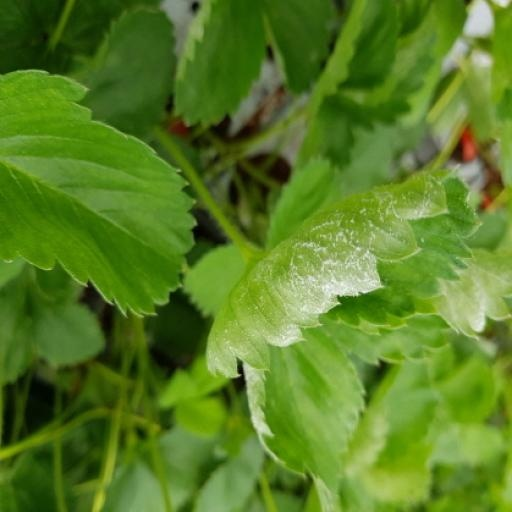Powdery Mildew Leaf: (205, 134, 486, 349), (242, 0, 365, 185), (430, 173, 511, 264)
